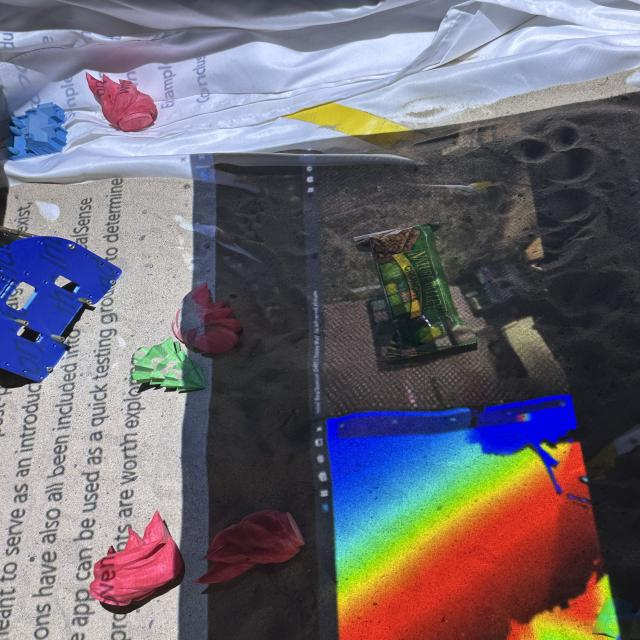fire: (87, 510, 185, 610), (194, 510, 306, 587), (172, 283, 242, 353), (85, 70, 156, 130)
house: (2, 101, 69, 161)
tree: (132, 337, 209, 392)
